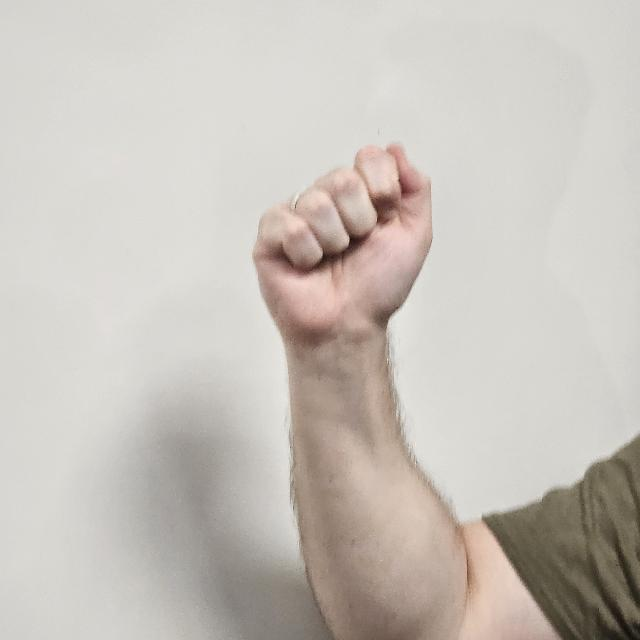Quadro: (253, 142, 432, 340)
